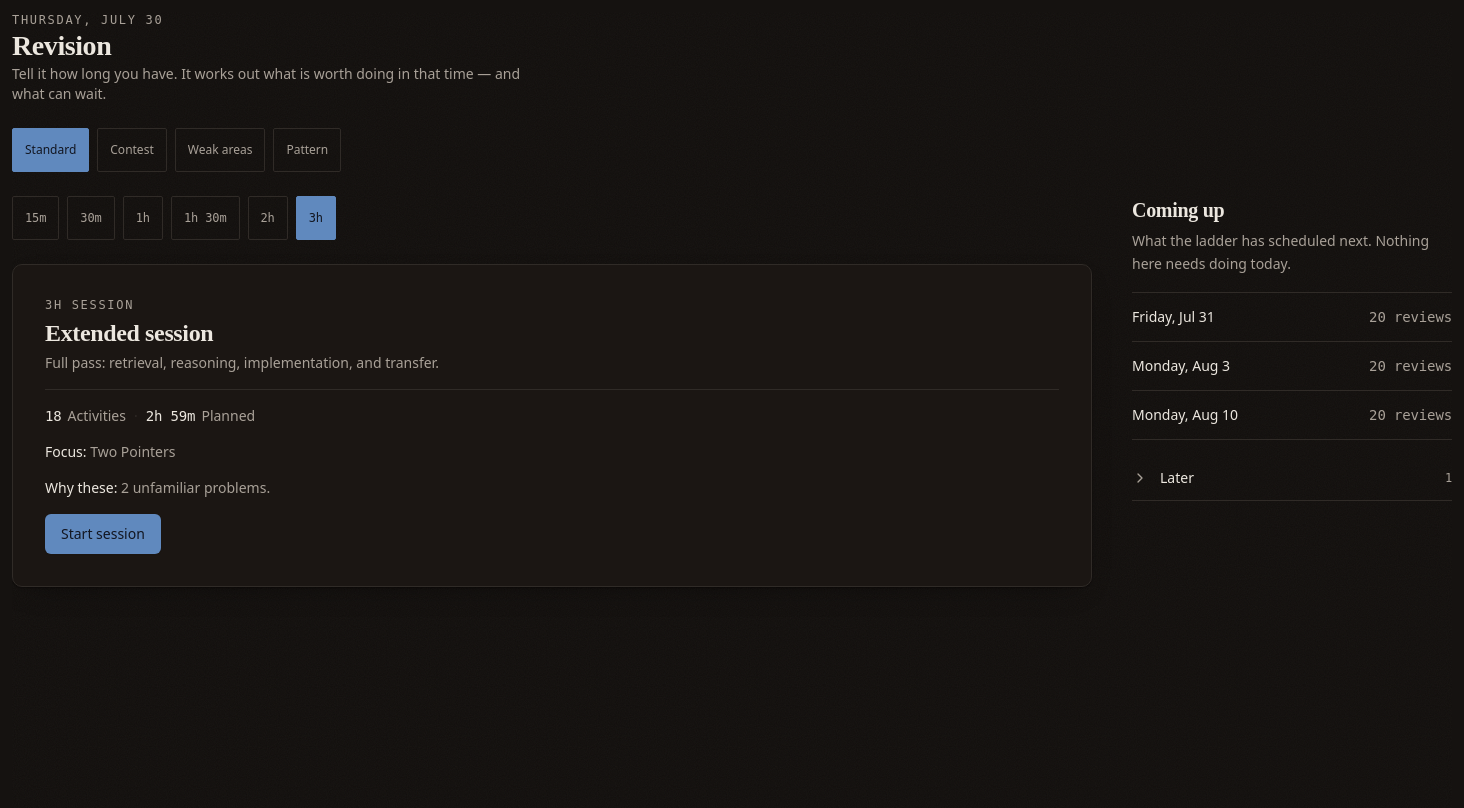
Contest Revision — the band reading is conservative and never about the learner › with no contest practice at all it reads nothing rather than reading the curriculum
Click the radio button labelled "Contest": (132, 150) [97, 128, 167, 172]
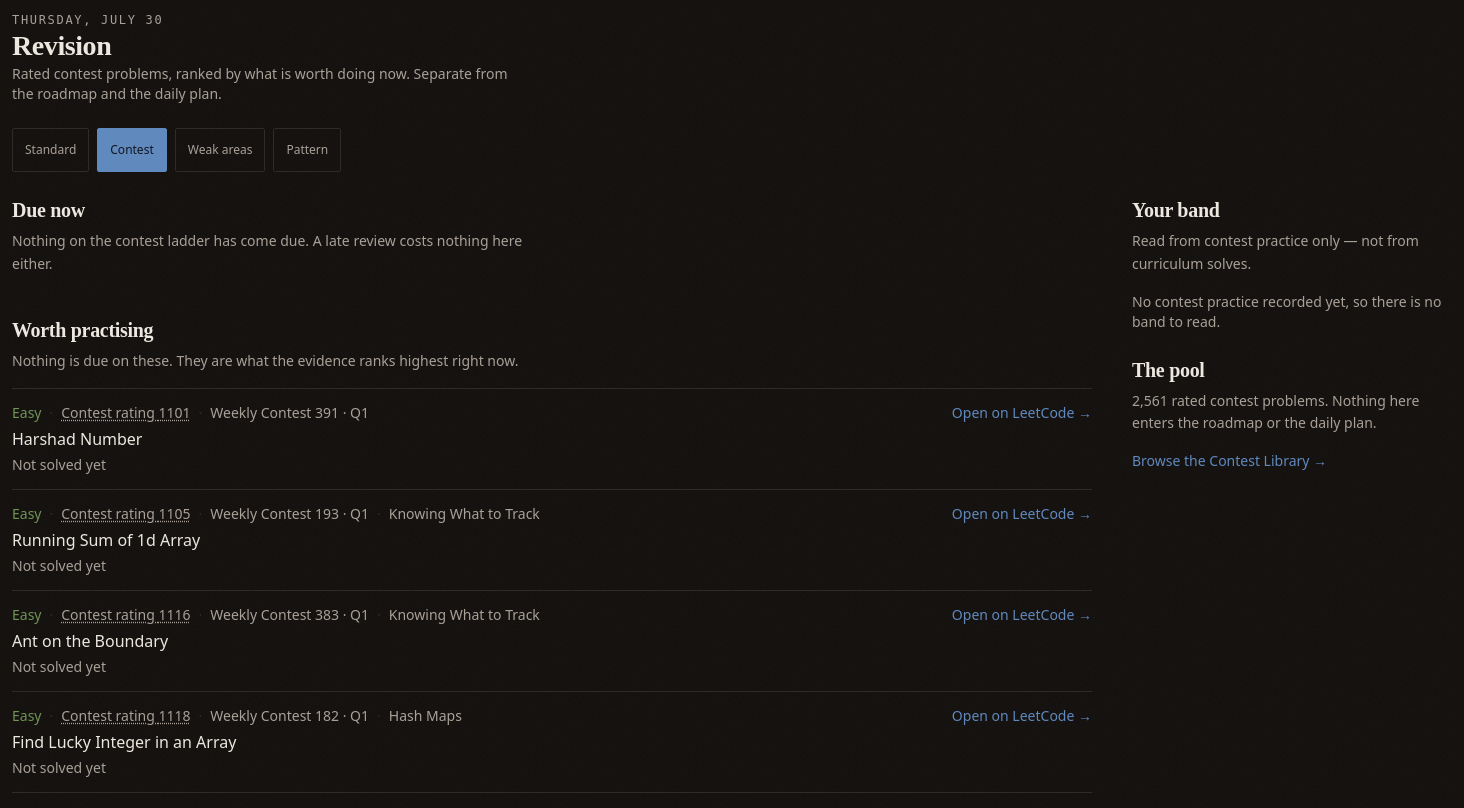
Result: the text "No contest practice recorded yet, so there is no band to read." is shown at [1132, 292, 1452, 332]
